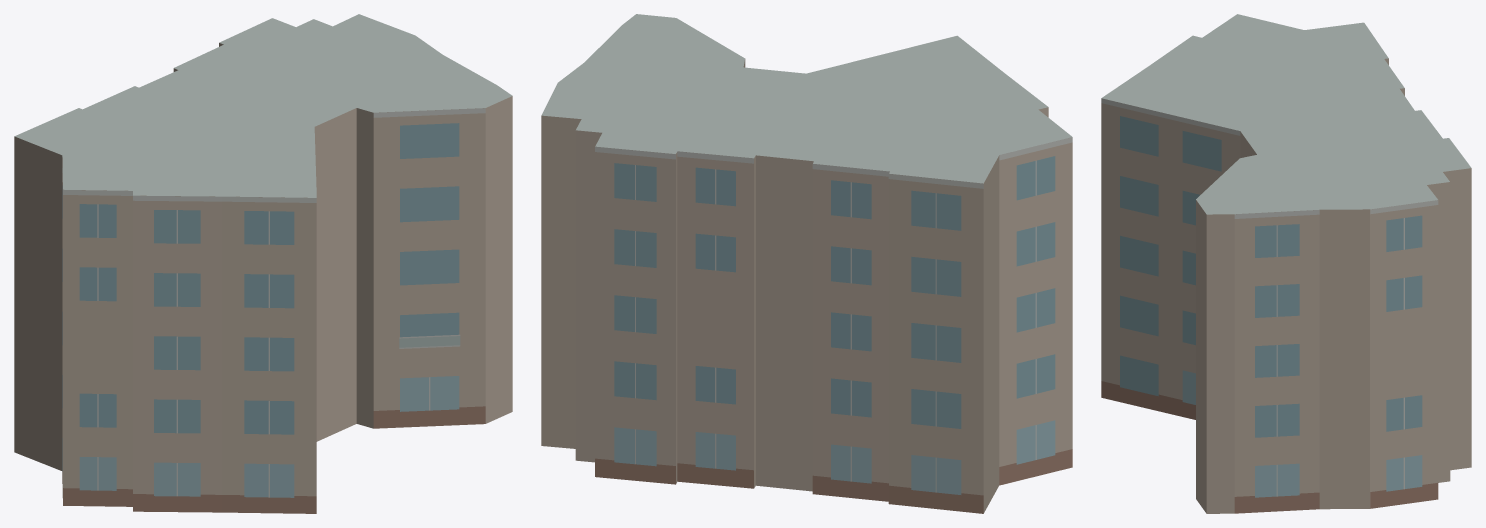
File: survey-upis-32541850.glb
3 views of the same model, side by side, from view 1: azimuth 30°, elevation 25°; view 2: azimuth 150°, elevation 25°; view 3: azimuth 270°, elevation 25° (orthographic). The views are drawn at different scales.
Parts seen in each view (by area): view 1: survey-upis-32541850.tmp; view 2: survey-upis-32541850.tmp; view 3: survey-upis-32541850.tmp.
Part boxes in pixels (x1,y1,x2,y2): survey-upis-32541850.tmp: [14, 14, 512, 513]; survey-upis-32541850.tmp: [541, 14, 1072, 513]; survey-upis-32541850.tmp: [1101, 14, 1471, 513].
Size of the model in its own units: 21.55 by 15 by 16.83.
